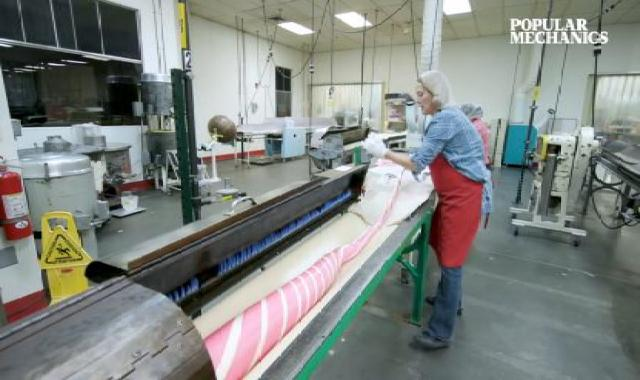hairnet: (414, 68, 456, 114), (464, 101, 493, 120)
